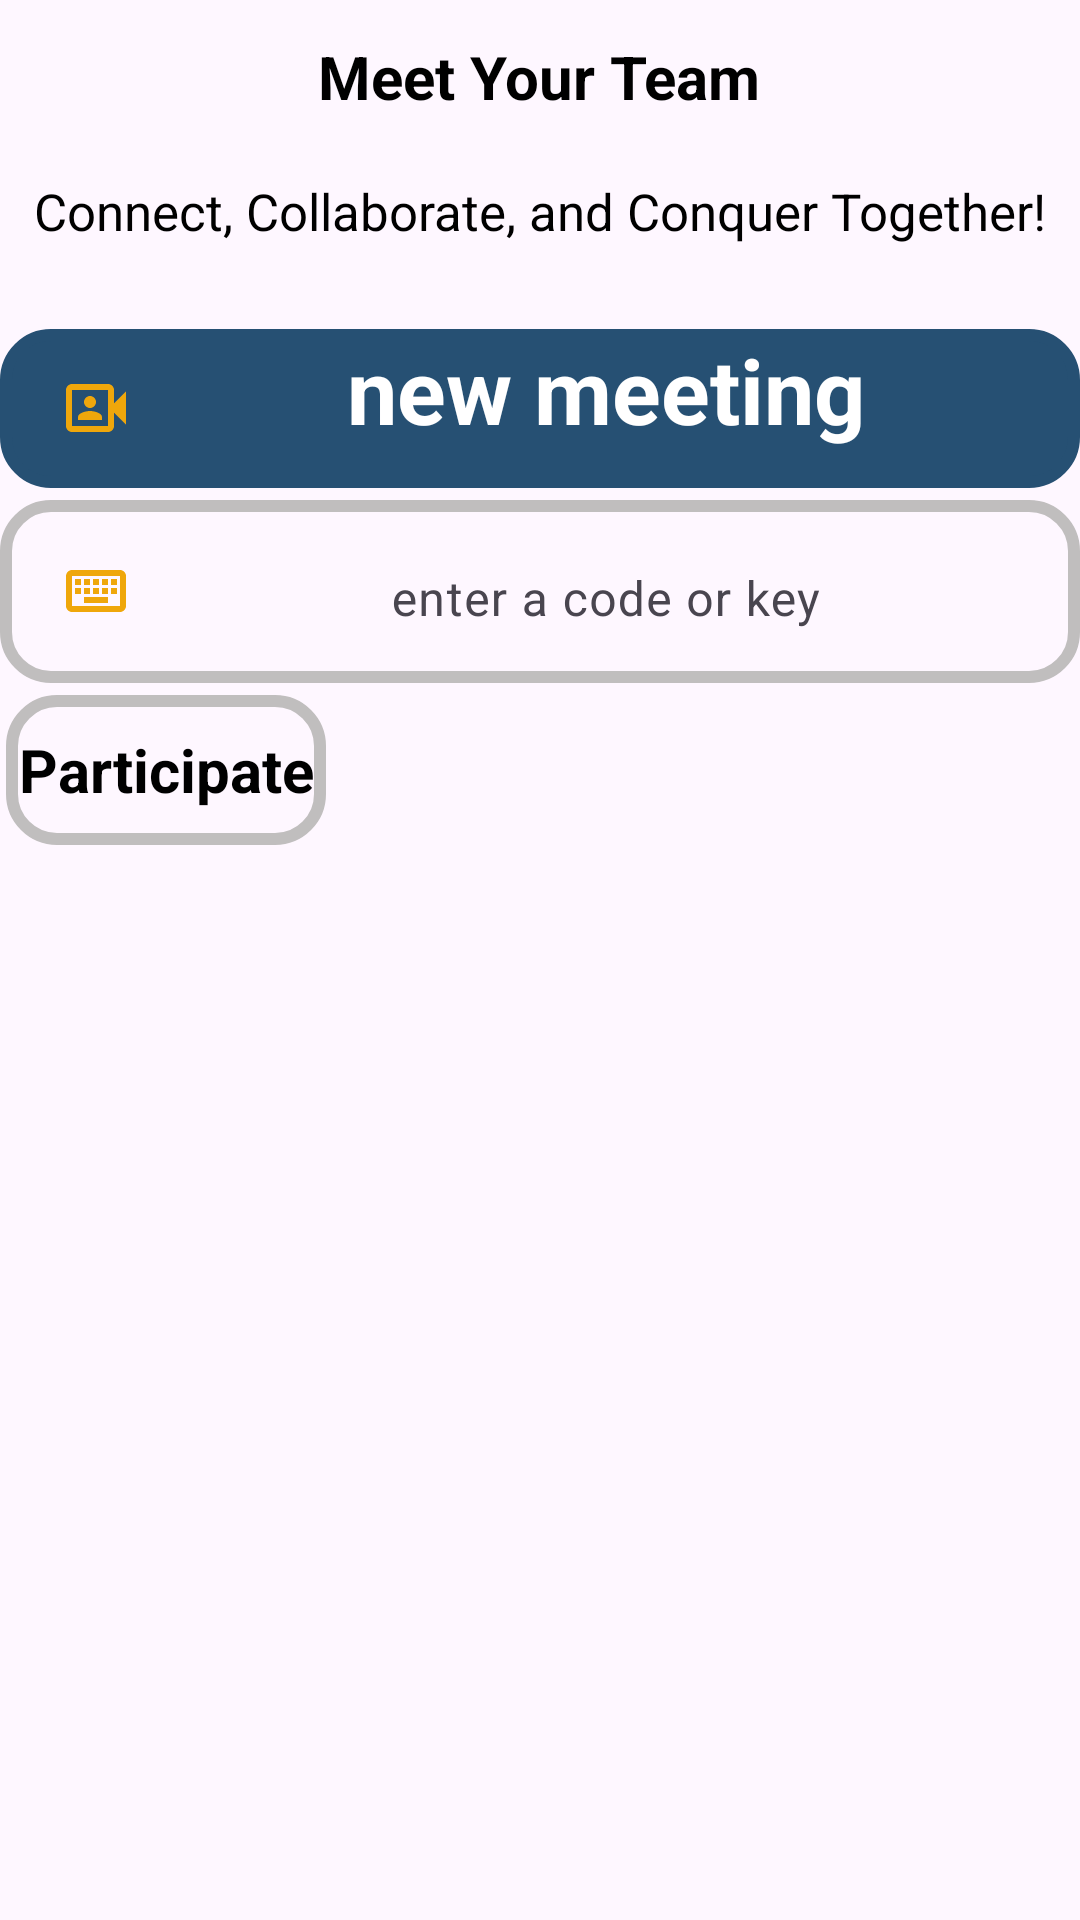

Icon bounding boxes for this 1080px×1920px phone screenshot, format {"x1": x1, "y1": y1, "x2": x2, "y2": y2}:
keyboard: {"x1": 66, "y1": 570, "x2": 126, "y2": 612}
photo camera front copie: {"x1": 66, "y1": 384, "x2": 126, "y2": 432}
